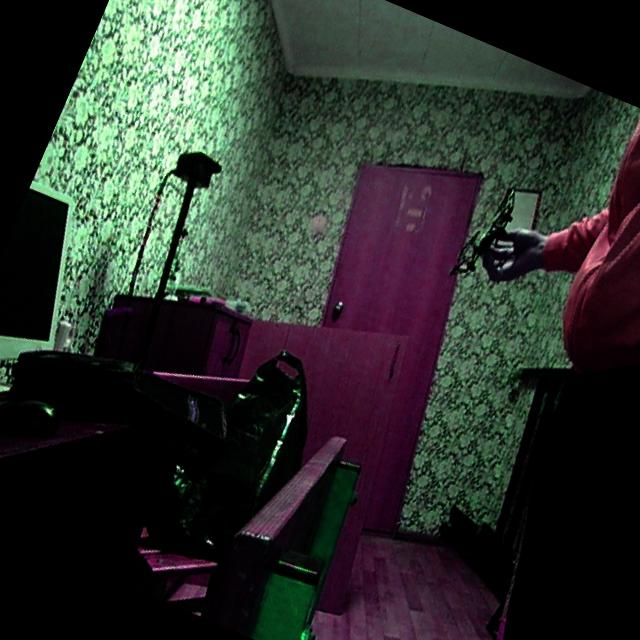drone: (439, 170, 534, 300)
